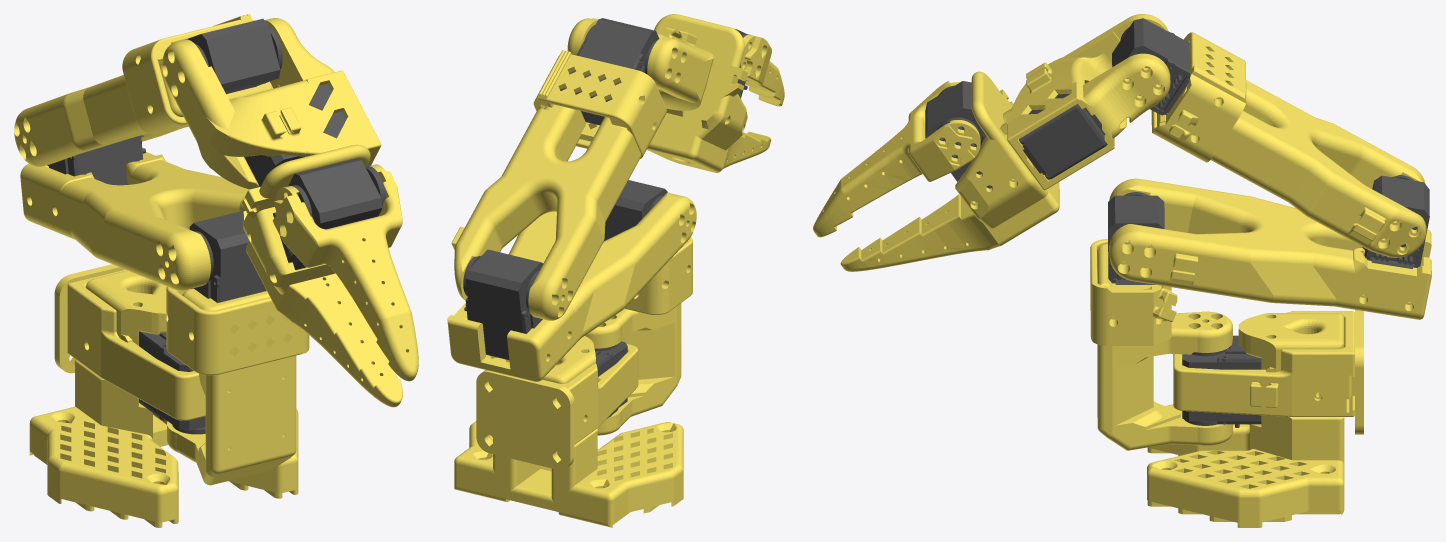
File: robot-v6.glb
3 renders of one model, left to right at view 1: azimuth 30°, elevation 25°; view 2: azimuth 150°, elevation 25°; view 3: azimuth 270°, elevation 25°, orthographic. The views are drawn at different scales.
Visible parts, largest first — view 1: base_so101_v2, upper_arm_so101_v1, wrist_roll_pitch_so101_v2, wrist_roll_follower_so101_v1, rotation_pitch_so101_v1, moving_jaw_so101_v1, base_motor_holder_so101_v1, motor_holder_so101_base_v1, under_arm_so101_v1, sts3215_03a_v1.004, sts3215_03a_v1.003, motor_holder_so101_wrist_v1 (+5 smaller); view 2: under_arm_so101_v1, base_so101_v2, upper_arm_so101_v1, wrist_roll_follower_so101_v1, waveshare_mounting_plate_so101_v2, motor_holder_so101_wrist_v1, rotation_pitch_so101_v1, sts3215_03a_v1.002, wrist_roll_pitch_so101_v2, base_motor_holder_so101_v1, sts3215_03a_v1.003, motor_holder_so101_base_v1 (+3 smaller); view 3: upper_arm_so101_v1, base_so101_v2, under_arm_so101_v1, wrist_roll_follower_so101_v1, wrist_roll_pitch_so101_v2, rotation_pitch_so101_v1, base_motor_holder_so101_v1, moving_jaw_so101_v1, motor_holder_so101_wrist_v1, motor_holder_so101_base_v1, sts3215_03a_no_horn_v1, sts3215_03a_v1.003 (+5 smaller).
Boxes of the visible parts, x1,y1,x2,y2 form: base_so101_v2: (29, 270, 298, 527); upper_arm_so101_v1: (20, 152, 248, 290); wrist_roll_pitch_so101_v2: (162, 18, 381, 189); wrist_roll_follower_so101_v1: (242, 144, 402, 407); rotation_pitch_so101_v1: (167, 288, 296, 485); moving_jaw_so101_v1: (272, 164, 418, 381); base_motor_holder_so101_v1: (67, 269, 205, 420); motor_holder_so101_base_v1: (166, 286, 309, 375); under_arm_so101_v1: (14, 61, 271, 166); sts3215_03a_v1.004: (273, 158, 386, 269); sts3215_03a_v1.003: (186, 18, 282, 93); motor_holder_so101_wrist_v1: (122, 14, 273, 134); under_arm_so101_v1: (451, 104, 641, 320); base_so101_v2: (454, 336, 683, 527); upper_arm_so101_v1: (447, 192, 696, 381); wrist_roll_follower_so101_v1: (647, 14, 771, 172); waveshare_mounting_plate_so101_v2: (476, 370, 574, 470); motor_holder_so101_wrist_v1: (533, 50, 666, 158); rotation_pitch_so101_v1: (585, 294, 681, 435); sts3215_03a_v1.002: (463, 249, 543, 360); wrist_roll_pitch_so101_v2: (567, 18, 714, 110); base_motor_holder_so101_v1: (488, 344, 638, 444); sts3215_03a_v1.003: (560, 18, 659, 125); motor_holder_so101_base_v1: (624, 237, 692, 314); upper_arm_so101_v1: (1109, 178, 1431, 319); base_so101_v2: (1147, 313, 1344, 527); under_arm_so101_v1: (1157, 80, 1426, 257); wrist_roll_follower_so101_v1: (840, 71, 1059, 271); wrist_roll_pitch_so101_v2: (1000, 14, 1170, 190); rotation_pitch_so101_v1: (1097, 243, 1232, 450); base_motor_holder_so101_v1: (1173, 311, 1354, 416); moving_jaw_so101_v1: (813, 81, 980, 237); motor_holder_so101_wrist_v1: (1151, 32, 1246, 162); motor_holder_so101_base_v1: (1090, 239, 1177, 345); sts3215_03a_no_horn_v1: (1019, 94, 1107, 179); sts3215_03a_v1.003: (1112, 18, 1189, 115).
Bounding box in the file's own units: 0.1109 × 0.2155 × 0.2726.
